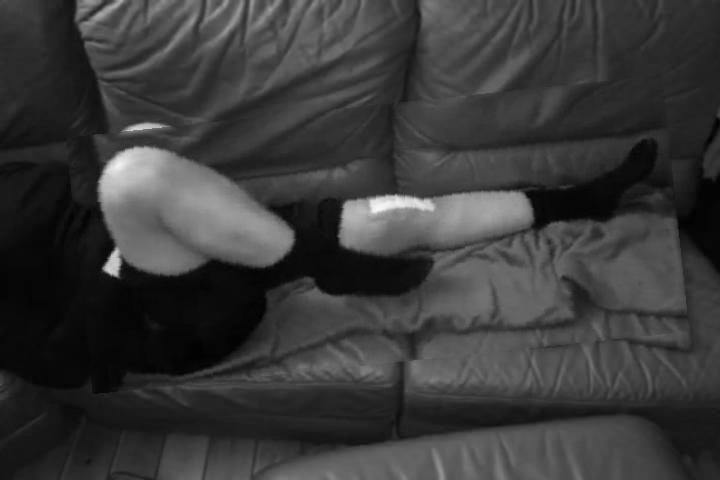lower_body: (73, 91, 685, 380)
